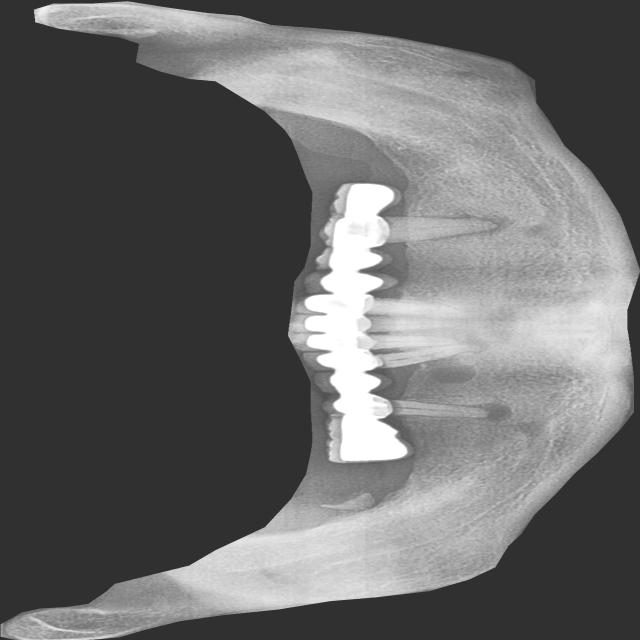mandibula: (1, 0, 640, 640)
